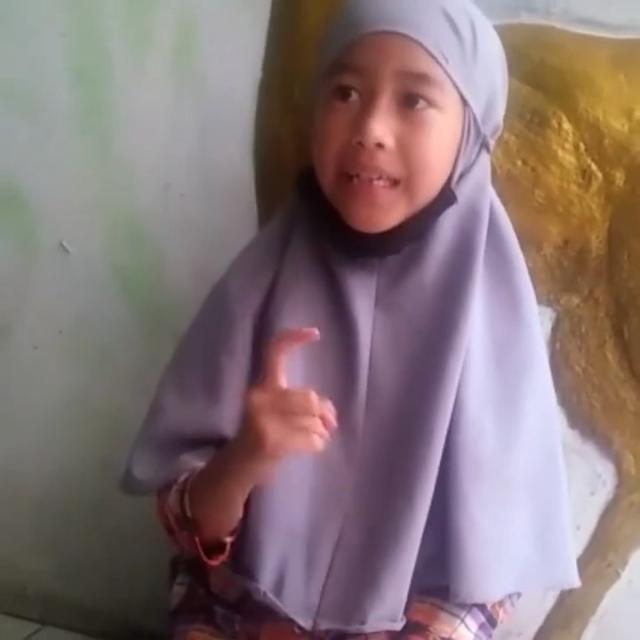X: (237, 320, 347, 470)
